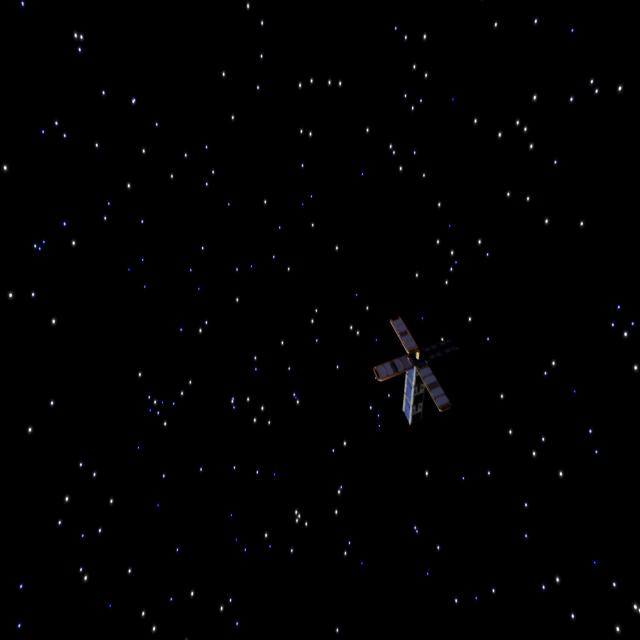satellite: (369, 312, 454, 437)
